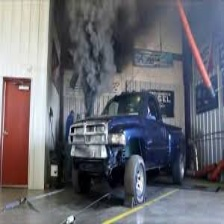smoke: (68, 1, 133, 111)
